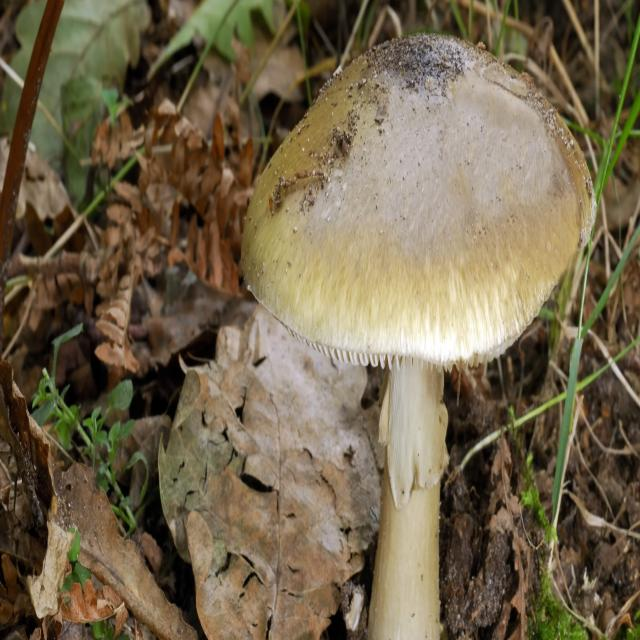death-cap: (240, 34, 593, 640)
